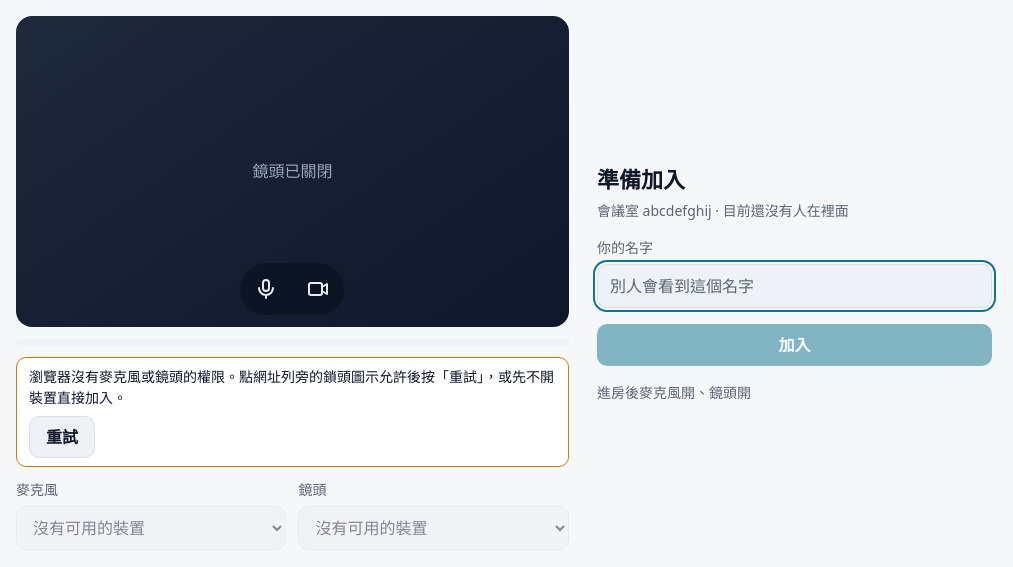
Test: pre-join screen › explains a refusal, offers to retry, and still lets the person join
Check: the heading "準備加入" is shown, box [597,164,685,194]
Check: the message shows "瀏覽器沒有麥克風或鏡頭的權限", box [29,367,554,407]
Click the button "重試". click: (62, 437)
box: [29,416,95,458]
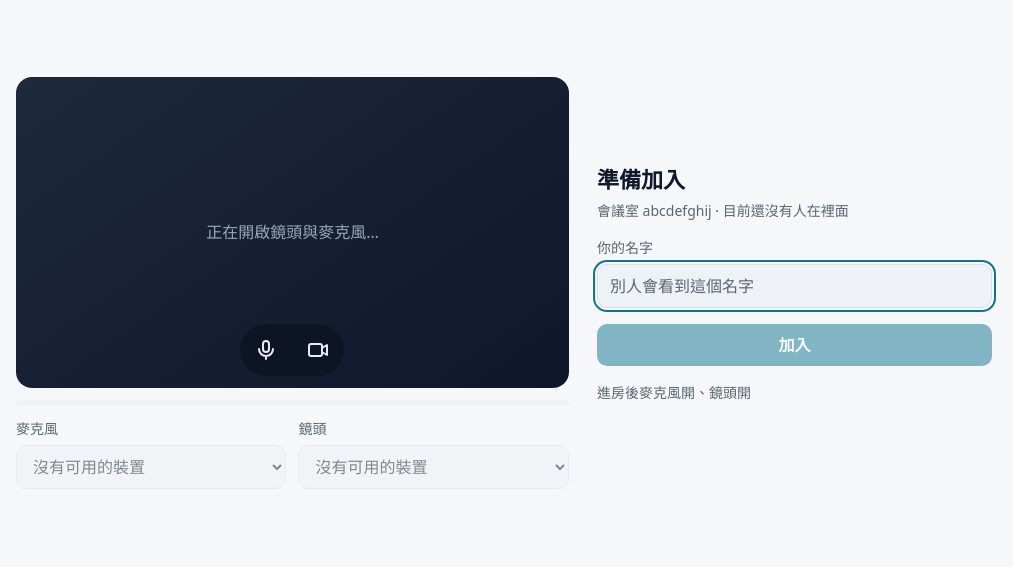
Type "Gene" into the field labelled "你的名字". click: (794, 286)
box: [597,264,992,308]
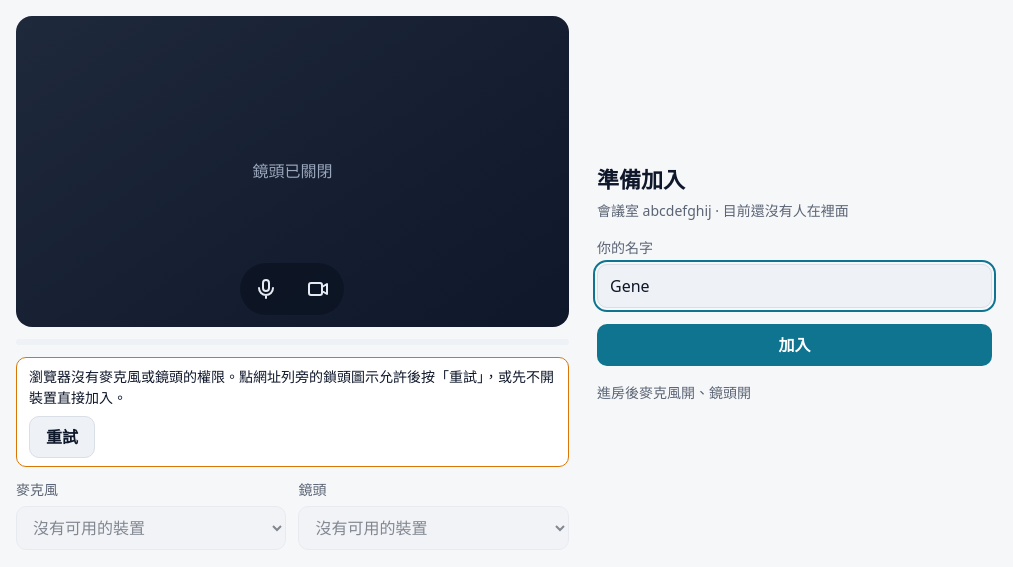
Check: the button "加入" is enabled, box [597,324,992,366]
